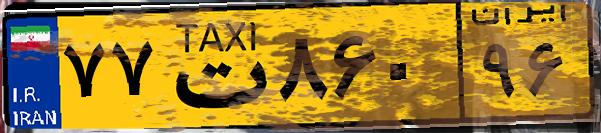0: (385, 28, 445, 110)
6: (330, 28, 385, 110), (525, 38, 570, 115)
7: (57, 26, 110, 100), (110, 28, 158, 98)
8: (270, 28, 330, 110)
9: (475, 38, 525, 113)
ت: (158, 12, 270, 120)
